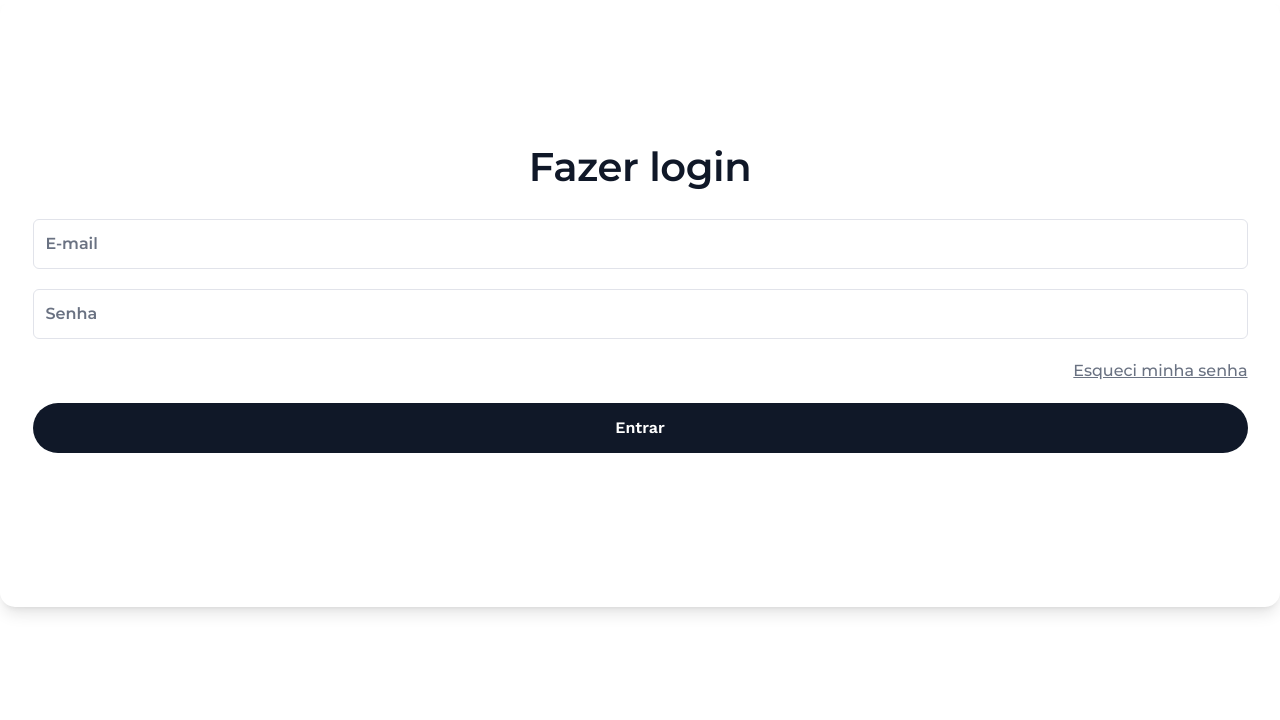
Test case: LoginForm › should display a validation error for an invalid email
The image size is (1280, 720).
Type "invalid-email" into the field with placeholder "E-mail". click: (640, 244)
box: [46,232,1234,256]
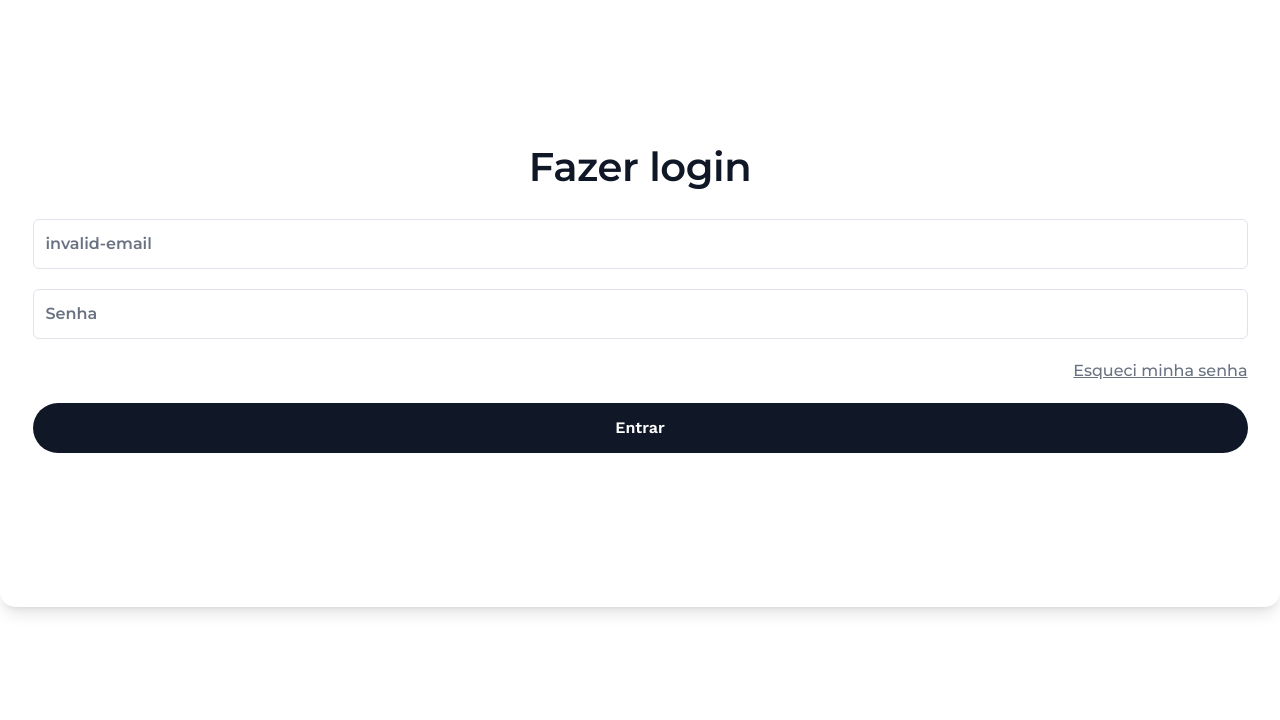
Click the button "Entrar". click: (640, 428)
box: [32,402,1248,452]
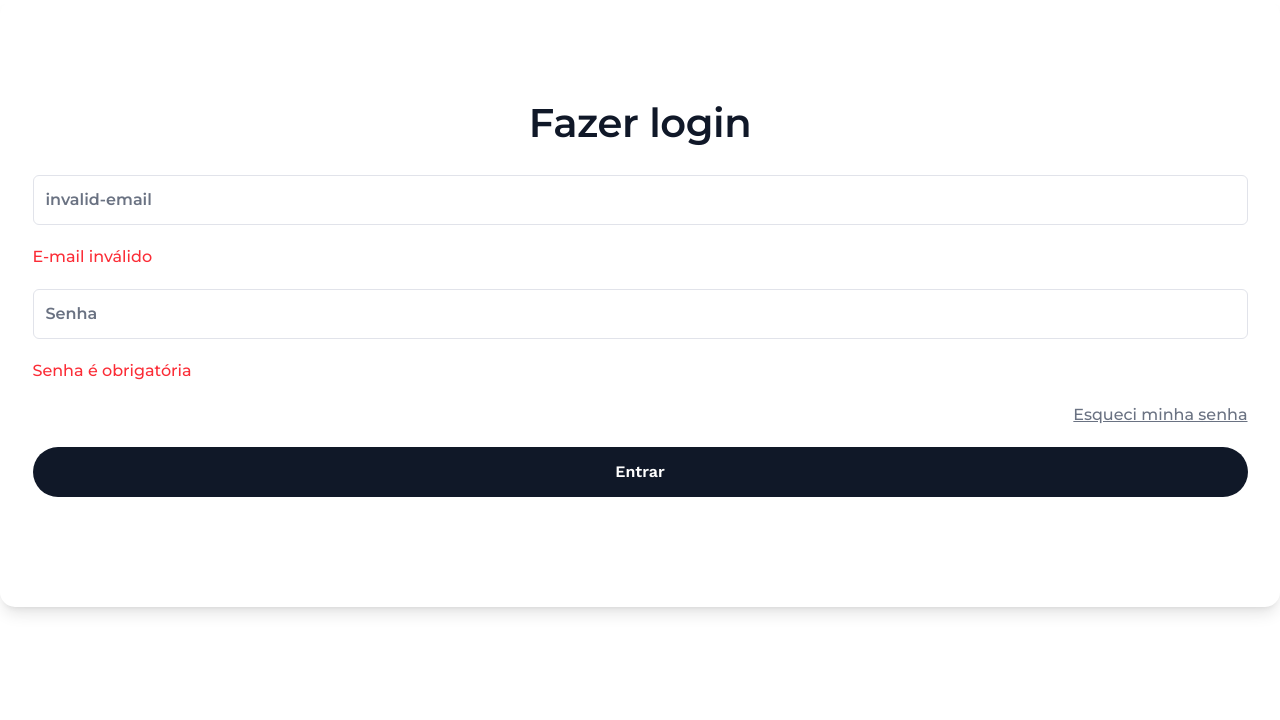
expect the text "E-mail inválido" is shown: met, box [32,244,152,268]
